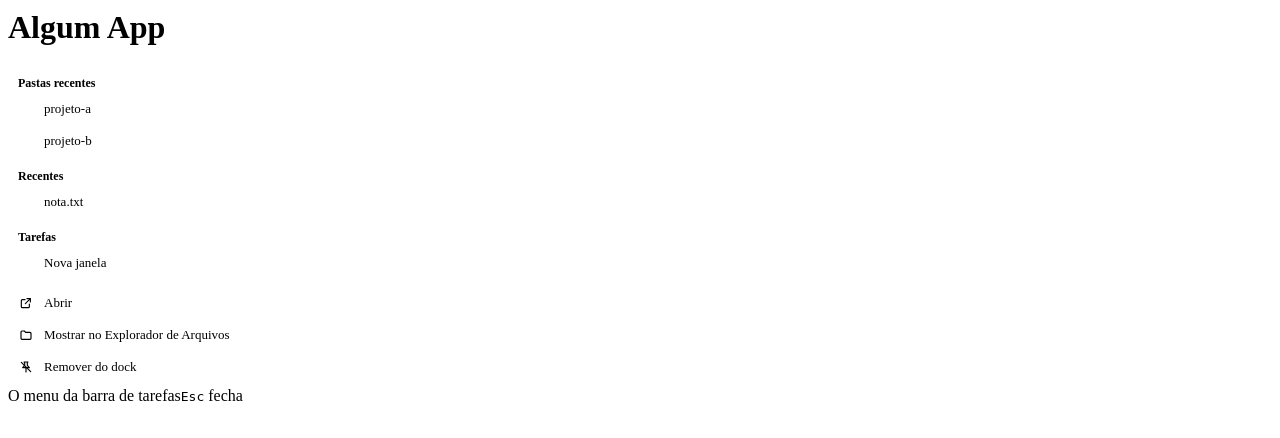
Test: AppMenuPanel › shows why an entry did not run and stays open
The image size is (1280, 438).
Click the menu item "nota.txt": click(64, 201) [8,186,1272,218]
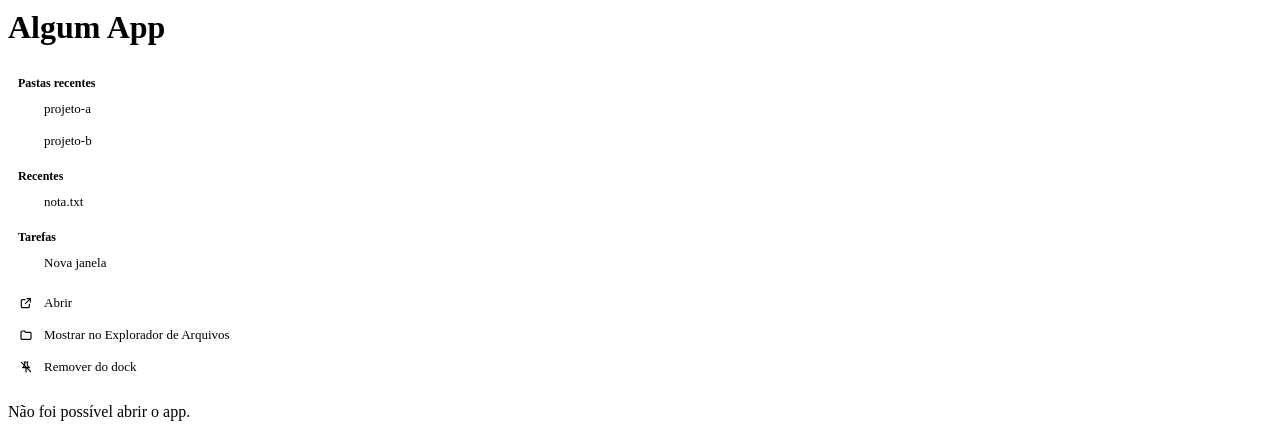
Result: the message reads "Não foi possível abrir o app." at [8,403,190,420]
